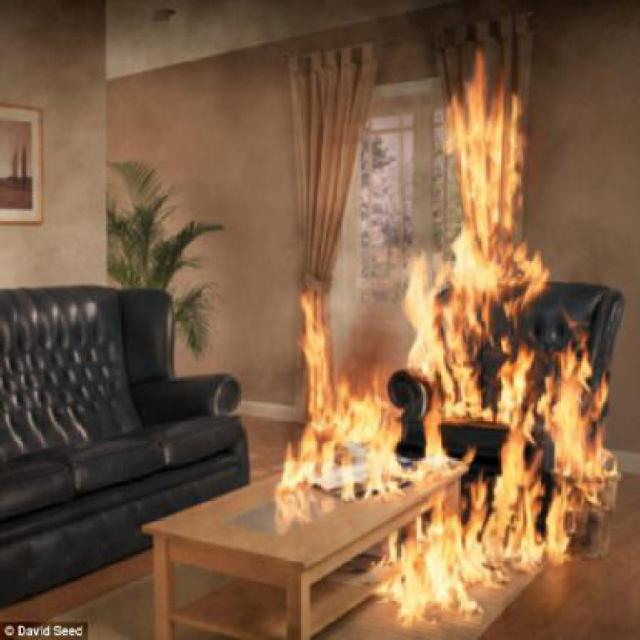fire: (424, 66, 610, 563)
